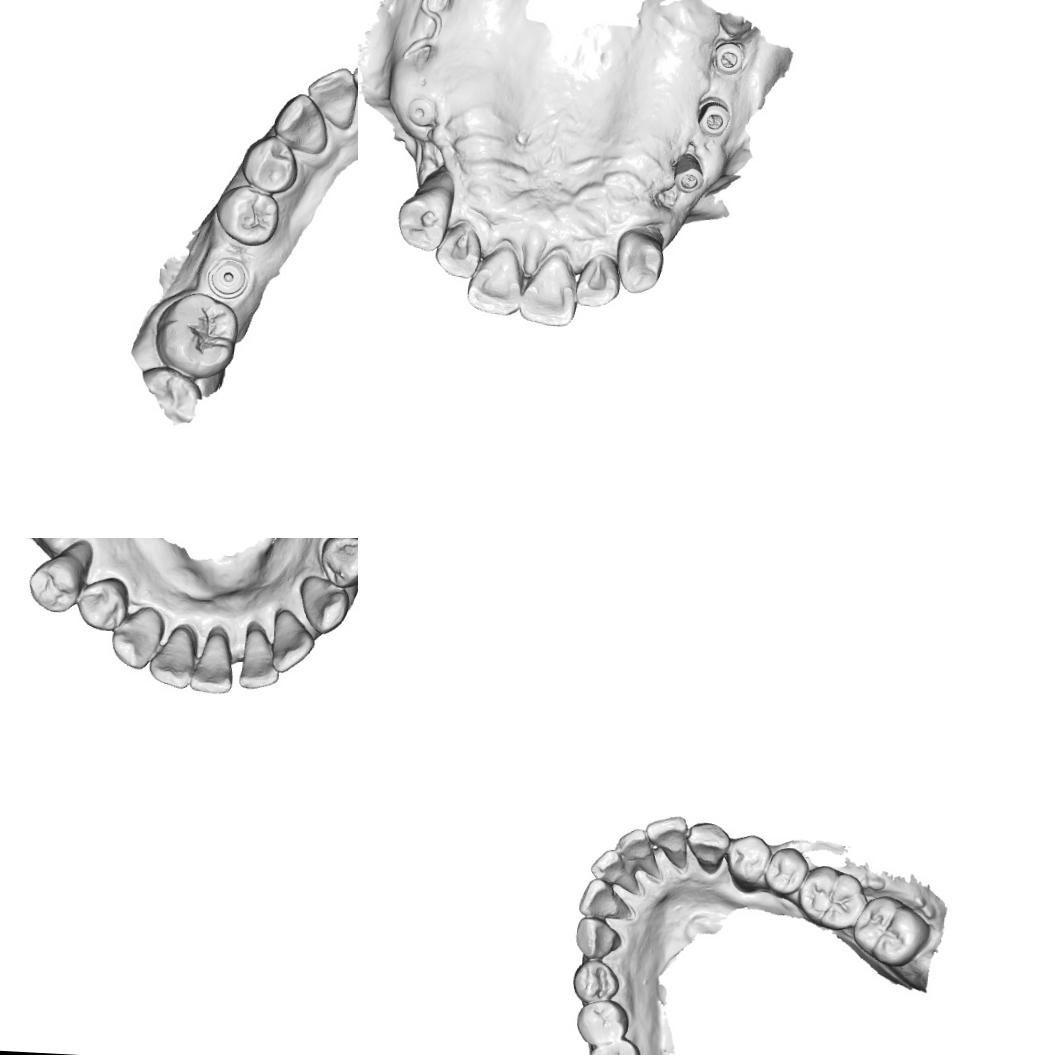canine: (394, 182, 454, 252), (272, 90, 330, 156), (108, 605, 164, 672), (295, 572, 353, 634), (612, 228, 664, 295), (684, 820, 730, 876), (573, 915, 622, 960)
implant: (208, 259, 250, 299), (671, 150, 706, 194), (695, 98, 732, 138), (712, 38, 744, 74)
incisor: (517, 250, 580, 328), (464, 244, 526, 318), (304, 63, 358, 132), (267, 608, 315, 674), (432, 219, 483, 280), (186, 632, 233, 694), (574, 250, 622, 310), (236, 627, 281, 691), (147, 632, 196, 688), (576, 876, 632, 920), (644, 812, 688, 854), (589, 847, 625, 884), (614, 825, 650, 860), (348, 57, 358, 119)
molar: (152, 289, 240, 382), (849, 893, 932, 969), (795, 862, 869, 932), (584, 1034, 648, 1055)
premolar: (214, 183, 280, 248), (23, 550, 86, 614), (239, 134, 300, 194), (75, 573, 130, 633), (724, 832, 773, 894), (573, 998, 630, 1048), (763, 845, 808, 899), (570, 958, 621, 1004), (317, 538, 358, 592)
